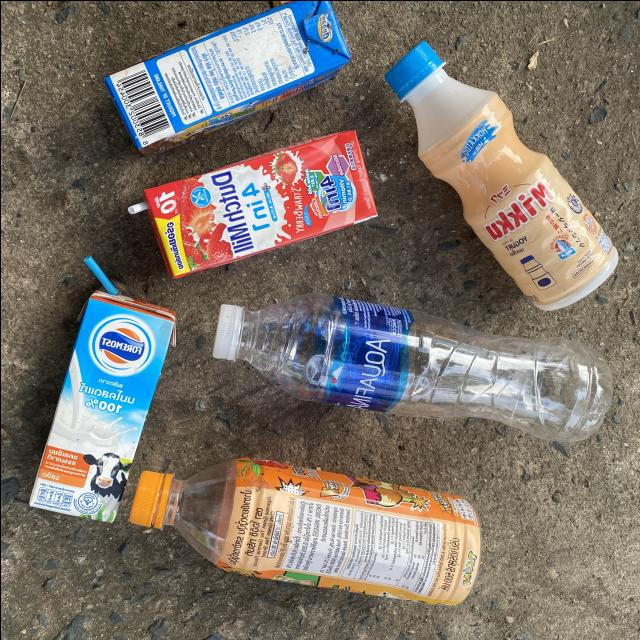plastik: (384, 40, 618, 310), (212, 292, 611, 441), (129, 457, 479, 604), (103, 0, 350, 153), (141, 130, 375, 276), (29, 290, 174, 521)
